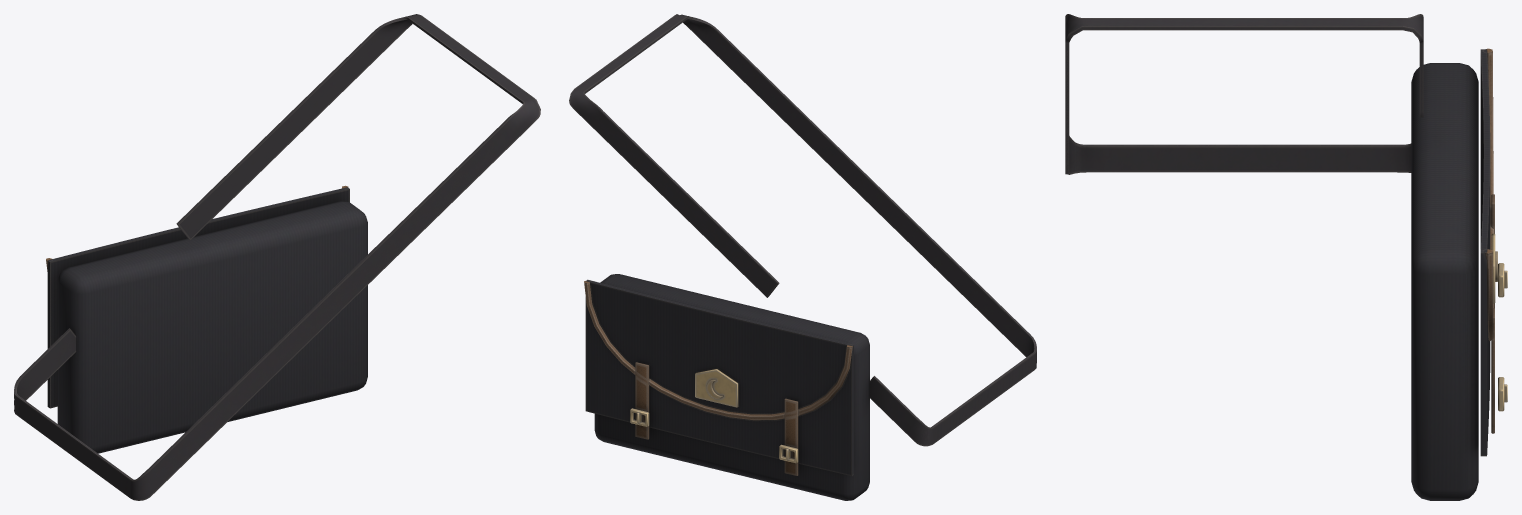
The model's file is NHAcc_MessengerBag.fbx.
3 renders of one model, left to right at view 1: azimuth 30°, elevation 25°; view 2: azimuth 150°, elevation 25°; view 3: azimuth 270°, elevation 25°, orthographic. The views are drawn at different scales.
Parts seen in each view (by area): view 1: MessengerBag, MessengerStrap; view 2: MessengerBag, MessengerStrap; view 3: MessengerBag, MessengerStrap.
Part boxes in pixels (left/top/right/bottom): MessengerBag: left=46, top=185, right=367, bottom=453; MessengerStrap: left=14, top=14, right=540, bottom=500; MessengerBag: left=584, top=274, right=869, bottom=500; MessengerStrap: left=569, top=14, right=1036, bottom=446; MessengerBag: left=1411, top=48, right=1507, bottom=500; MessengerStrap: left=1065, top=14, right=1423, bottom=174.
Bounding box in the file's own units: 2.02 × 1.76 × 1.38.
